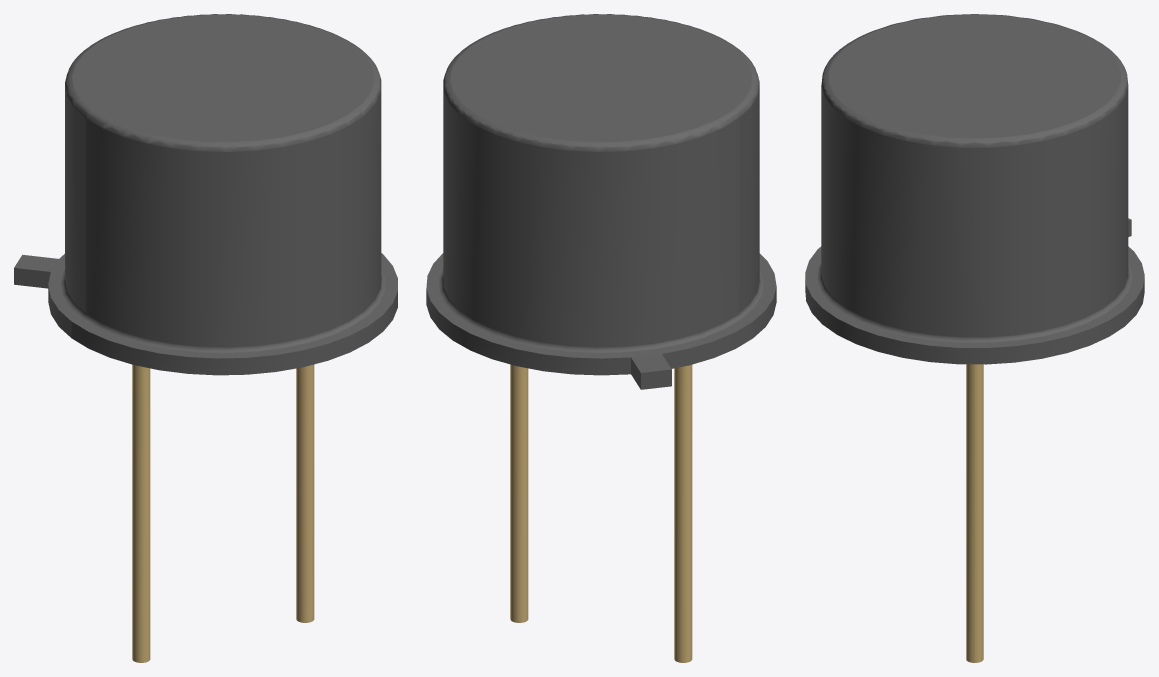
3 renders of one model, left to right at view 1: azimuth 30°, elevation 25°; view 2: azimuth 150°, elevation 25°; view 3: azimuth 270°, elevation 25°, orthographic. The views are drawn at different scales.
Visible parts, largest first — view 1: 0.16666666666666666_0.16666666666666666_0.16666666666666666_, 0.75_0.5_0.25_0.9; view 2: 0.16666666666666666_0.16666666666666666_0.16666666666666666_, 0.75_0.5_0.25_0.9; view 3: 0.16666666666666666_0.16666666666666666_0.16666666666666666_, 0.75_0.5_0.25_0.9.
Boxes of the visible parts, left/top/right/bottom form: 0.16666666666666666_0.16666666666666666_0.16666666666666666_: left=14, top=14, right=397, bottom=375; 0.75_0.5_0.25_0.9: left=132, top=364, right=314, bottom=662; 0.16666666666666666_0.16666666666666666_0.16666666666666666_: left=426, top=14, right=776, bottom=389; 0.75_0.5_0.25_0.9: left=510, top=364, right=692, bottom=662; 0.16666666666666666_0.16666666666666666_0.16666666666666666_: left=805, top=14, right=1144, bottom=364; 0.75_0.5_0.25_0.9: left=966, top=364, right=983, bottom=662.
Size of the model in its own units: 0.9389 by 1.66 by 0.9393.
